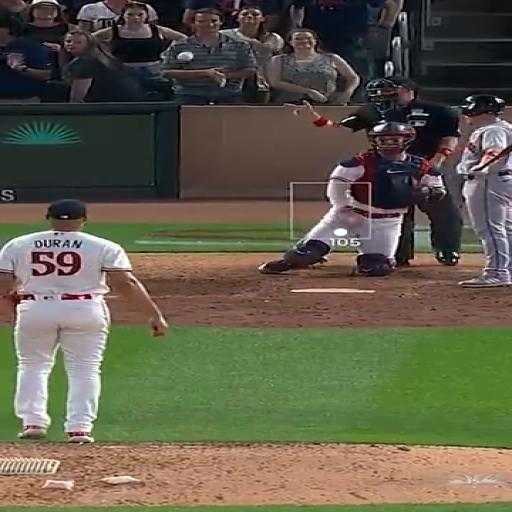bat: (473, 145, 511, 172)
